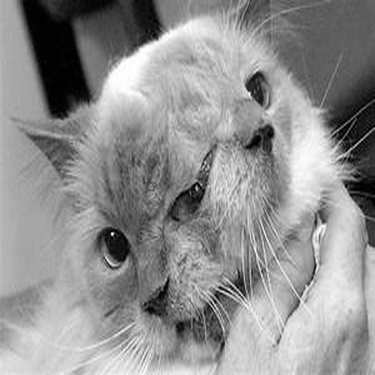cat: (93, 2, 334, 360), (13, 83, 228, 363)
